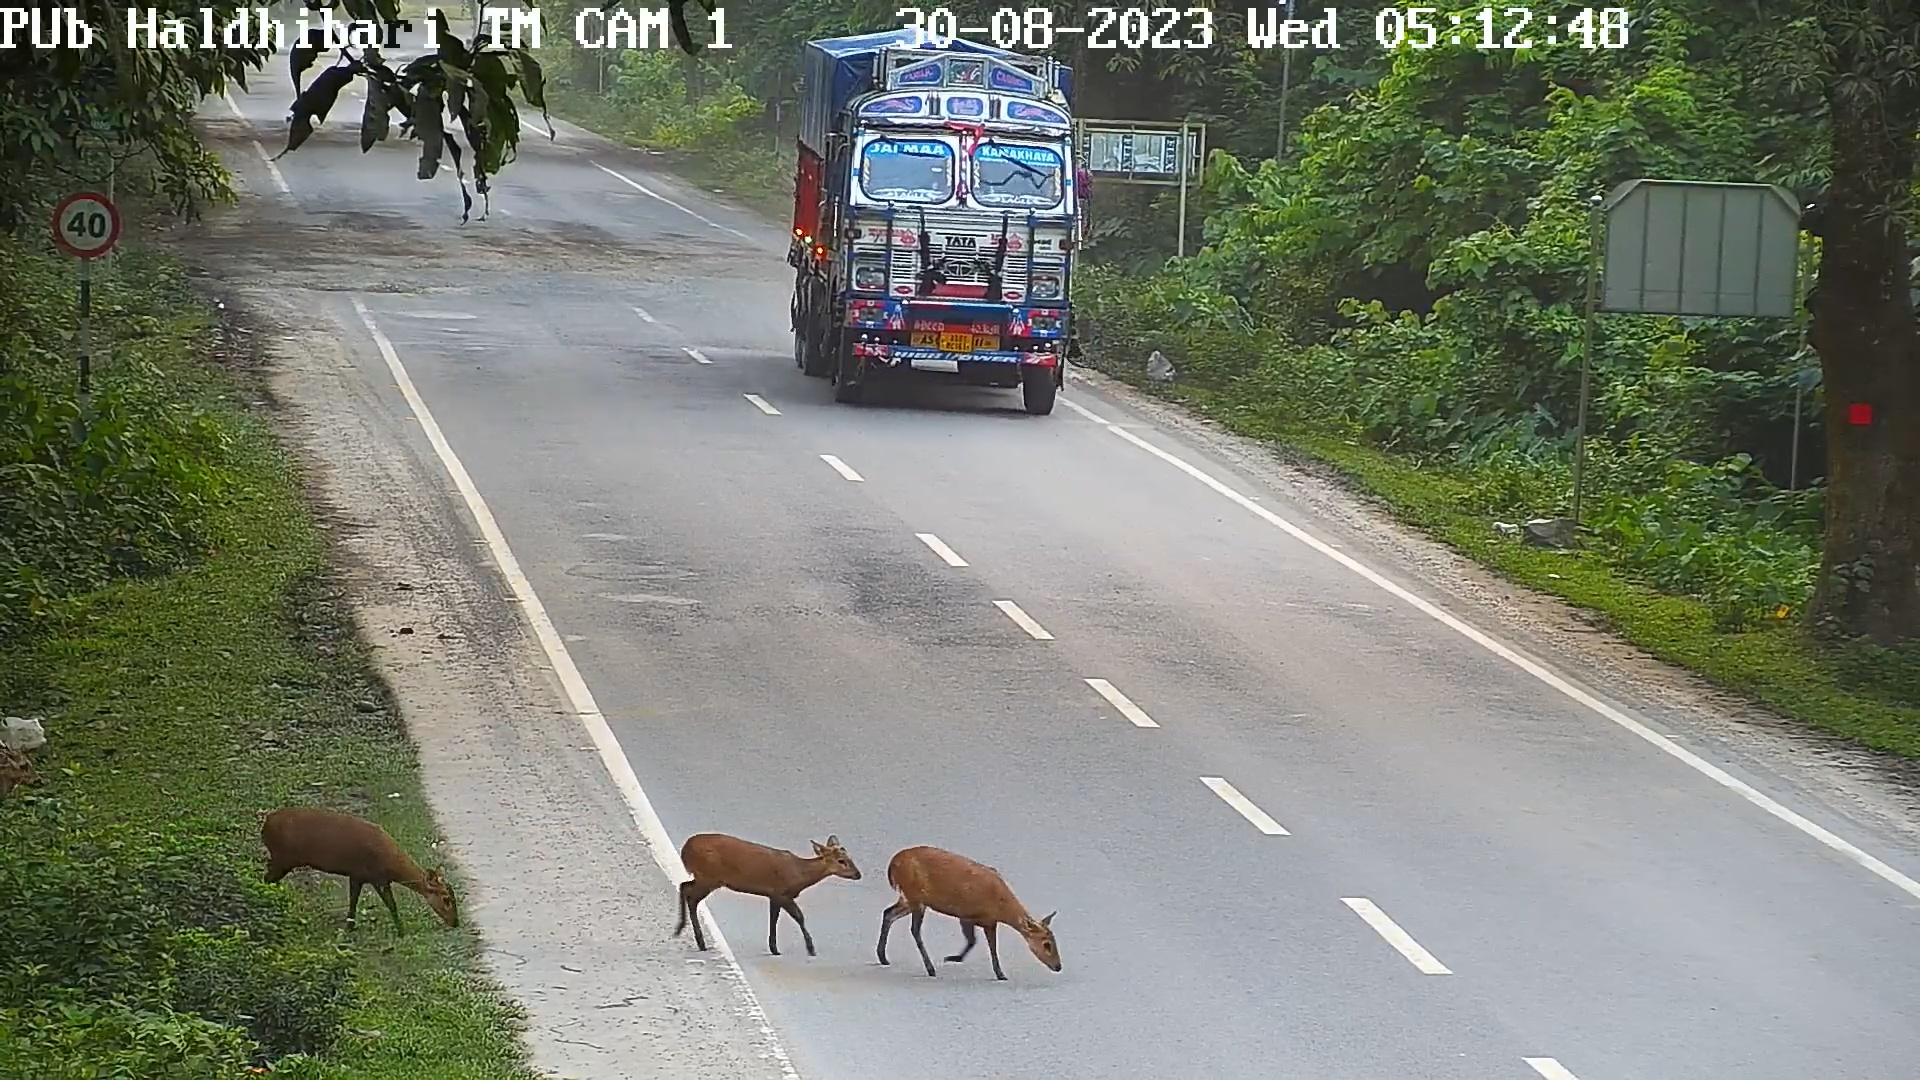deers: (248, 782, 451, 959), (655, 819, 865, 967), (882, 832, 1067, 996)
